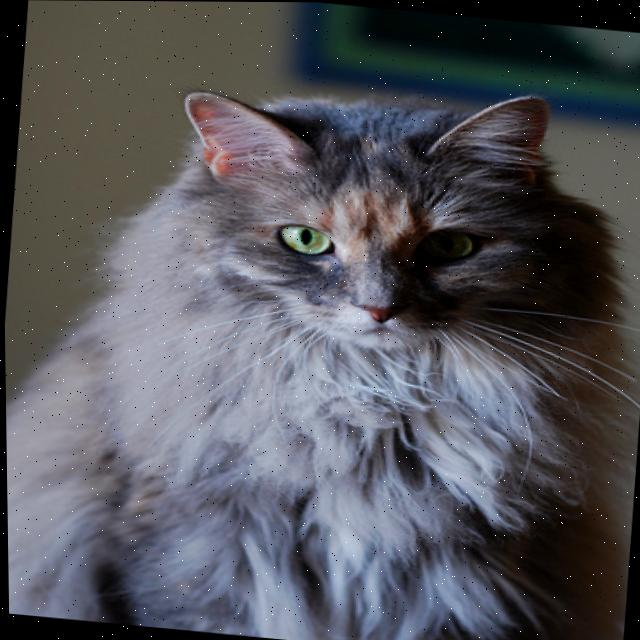Maine Coon: (0, 41, 640, 640)
